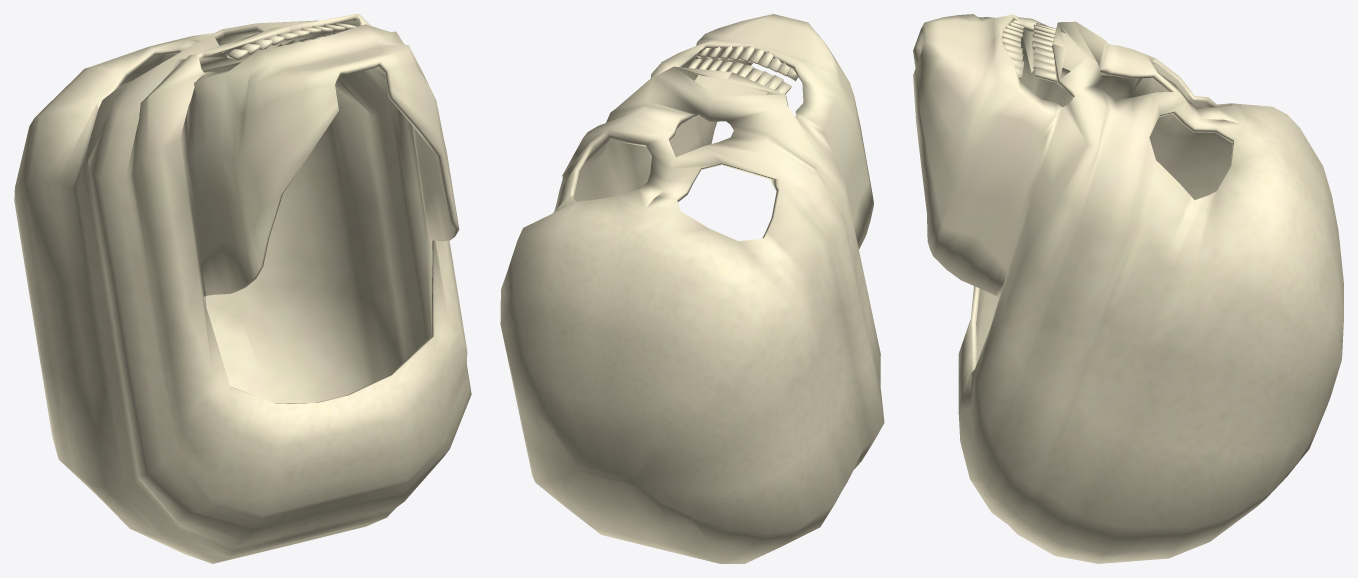
Rendered from skull.fbx.
The picture shows the model from 3 angles, left to right: view 1: azimuth 30°, elevation 25°; view 2: azimuth 150°, elevation 25°; view 3: azimuth 270°, elevation 25°; orthographic projection. The views are drawn at different scales.
Visible parts, largest first — view 1: Cube.001; view 2: Cube.001; view 3: Cube.001.
Part boxes in pixels (bbox=[...]): Cube.001: bbox=[14, 14, 471, 563]; Cube.001: bbox=[500, 14, 884, 563]; Cube.001: bbox=[913, 14, 1343, 563].
Bounding box in the file's own units: 351 × 558 × 439.
